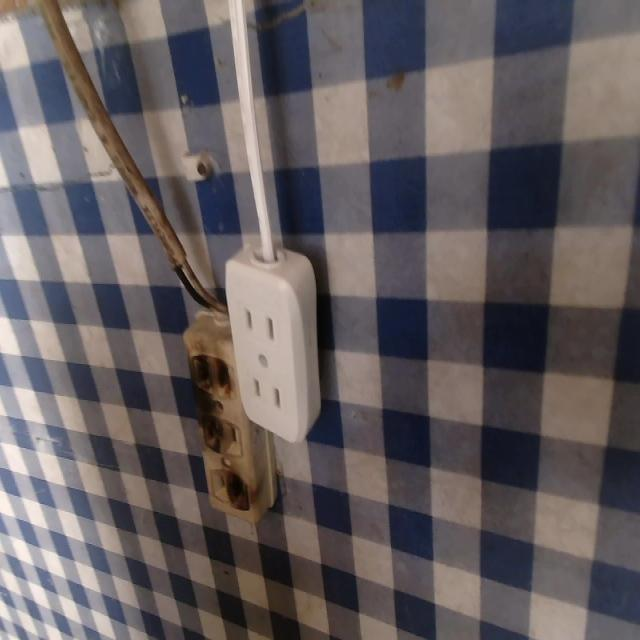-: (180, 338, 240, 406), (190, 409, 228, 462), (219, 461, 253, 516)
